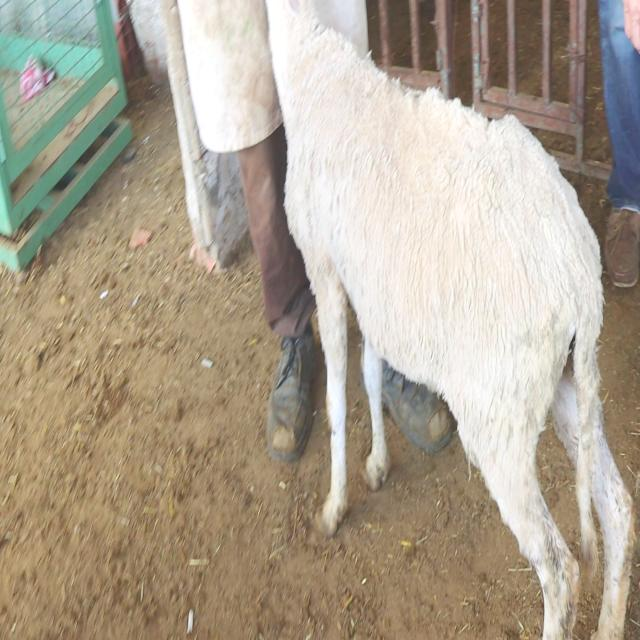Score_1: (268, 0, 634, 639)
